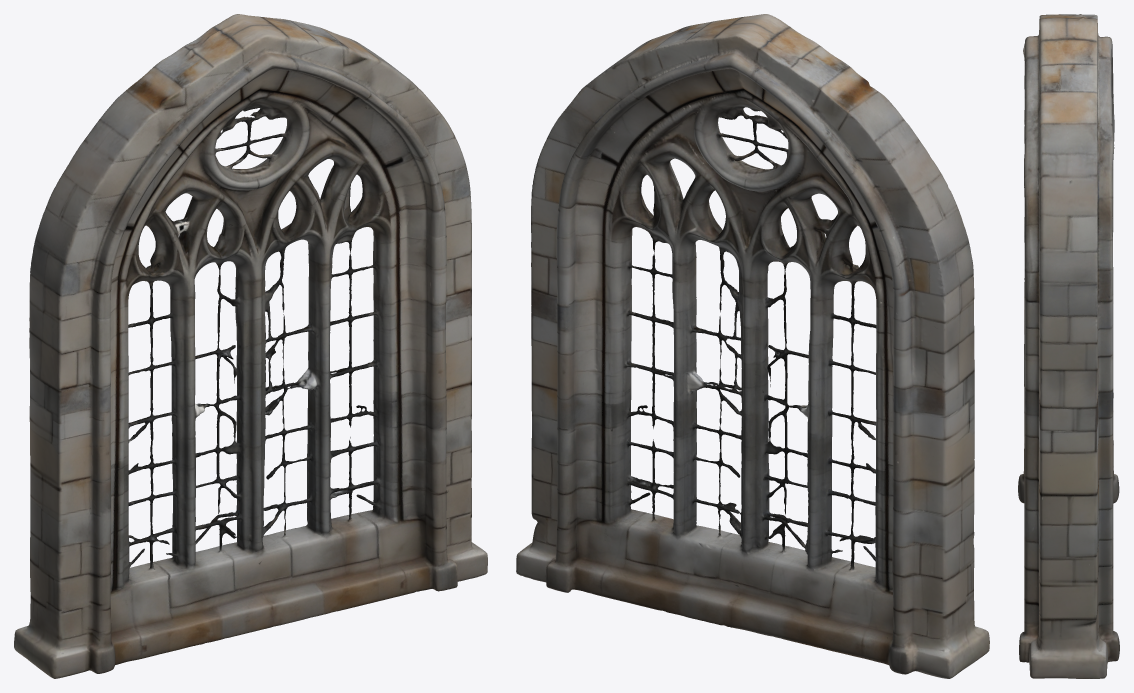
Rendered from Meshy_AI_Ruined_Gothic_Arch_Wi_0519072804_texture.glb.
The picture shows the model from 3 angles, left to right: view 1: azimuth 30°, elevation 25°; view 2: azimuth 150°, elevation 25°; view 3: azimuth 270°, elevation 25°; orthographic projection. The views are drawn at different scales.
Size of the model in its own units: 1.56 by 2 by 0.3316.
Materials: 1 (1 with a texture image).
